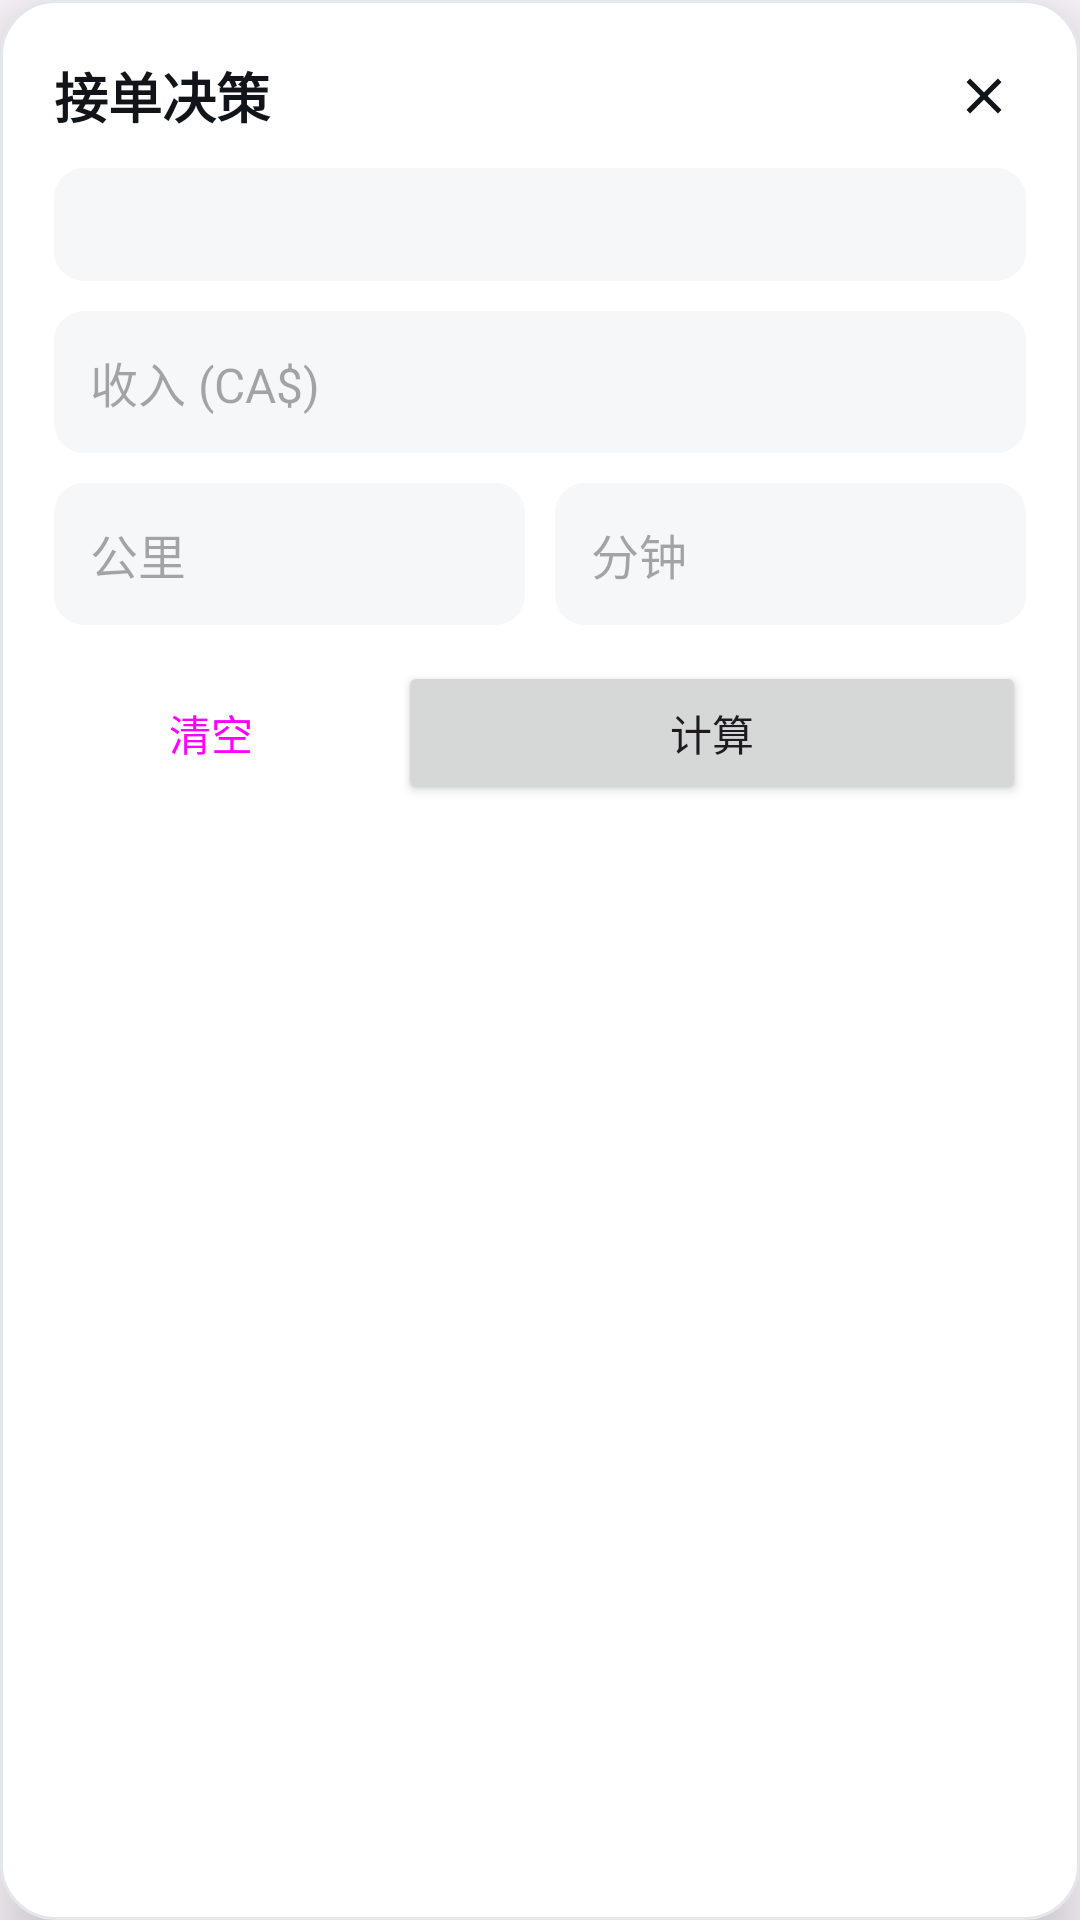

Where to tap for icons on this 1080 x 1920 app screen, as [x,y]:
close: [984,96]
